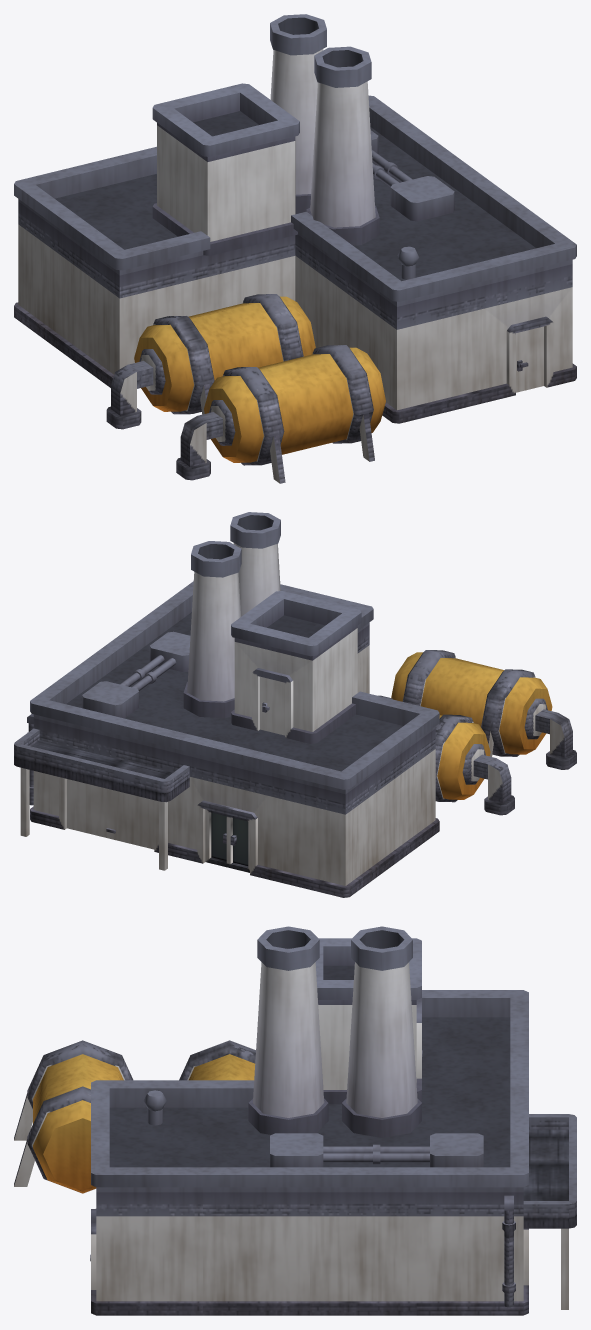
Rendered from building-c-white.glb.
3 renders of one model, top to bottom at view 1: azimuth 30°, elevation 25°; view 2: azimuth 150°, elevation 25°; view 3: azimuth 270°, elevation 25°, orthographic. The views are drawn at different scales.
Parts seen in each view (by area): view 1: building-c; view 2: building-c; view 3: building-c.
Boxes of the visible parts, x1,y1,x2,y2 form: building-c: (14,14,576,483); building-c: (14,512,576,897); building-c: (14,926,576,1315).
Size of the model in its own units: 1.88 by 1.25 by 2.11.
1 material, 1 textured.
